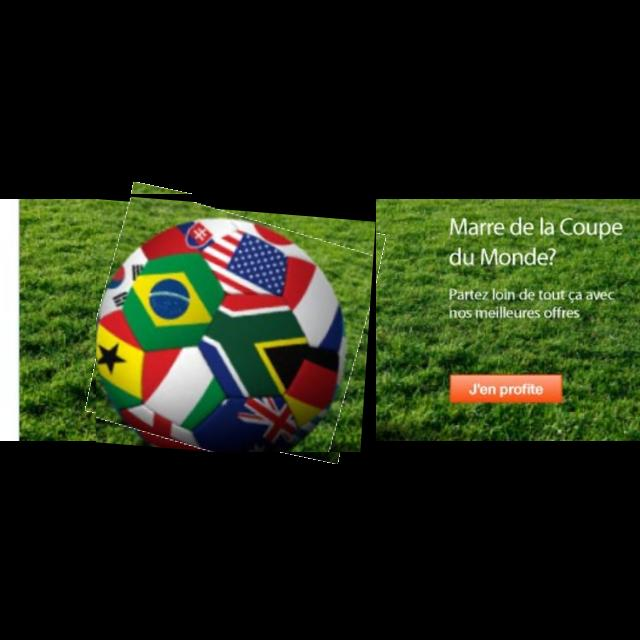Football: (96, 194, 376, 452)
